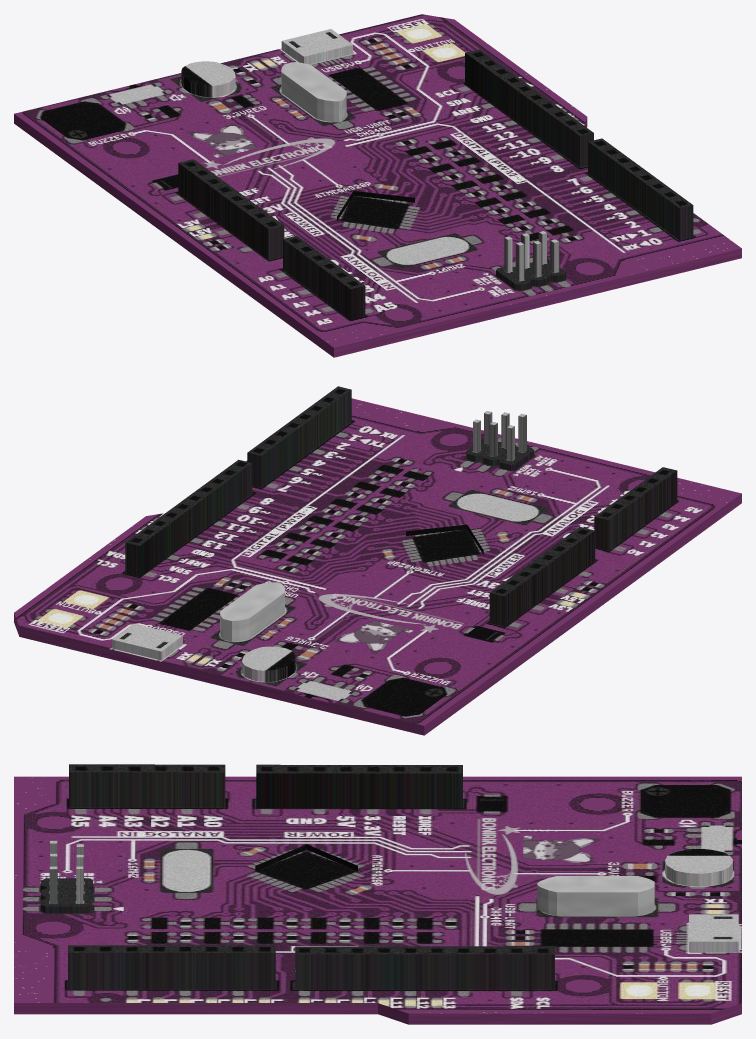
File: ardubon.dae
The picture shows the model from 3 angles, top to bottom: view 1: azimuth 30°, elevation 25°; view 2: azimuth 150°, elevation 25°; view 3: azimuth 270°, elevation 25°; orthographic projection. The views are drawn at different scales.
Visible parts, largest first — view 1: Cube.001; view 2: Cube.001; view 3: Cube.001.
Boxes of the visible parts, <box> form: Cube.001: <box>14,14,741,357</box>; Cube.001: <box>14,386,741,735</box>; Cube.001: <box>14,764,741,1024</box>.
Size of the model in its own units: 1.54 by 2 by 0.1776.
Materials: 1 (1 with a texture image).
